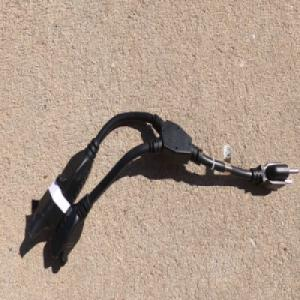Wire: (26, 109, 300, 269)
